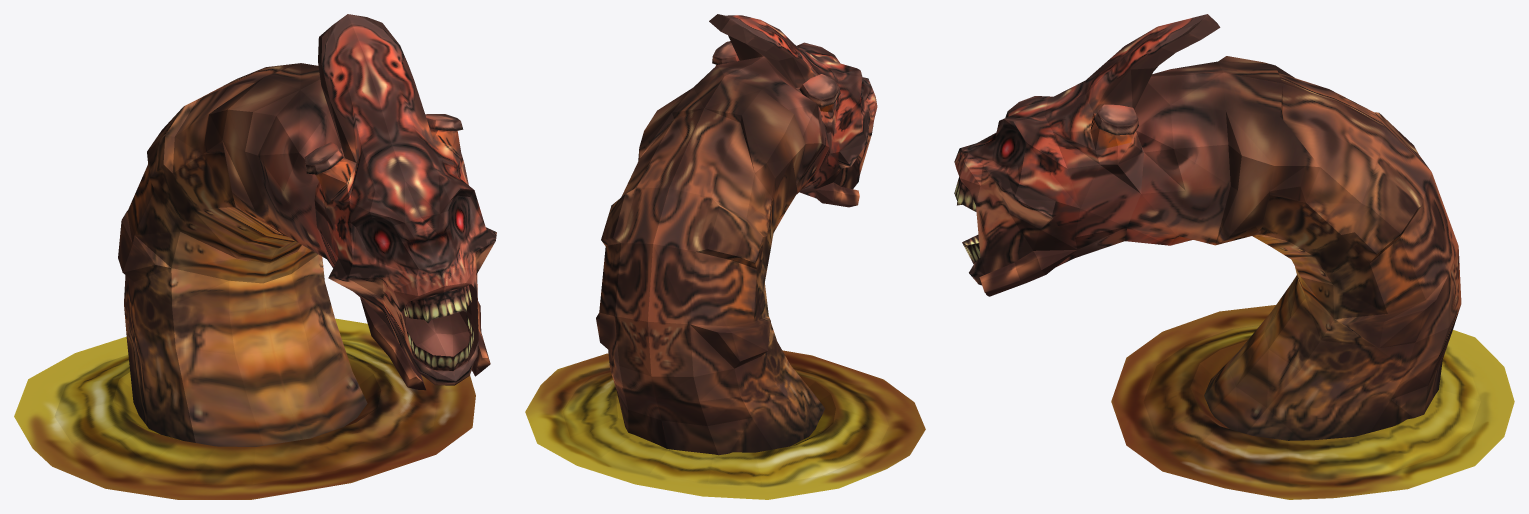
File: Lava Wurm.fbx
The picture shows the model from 3 angles, left to right: view 1: azimuth 30°, elevation 25°; view 2: azimuth 150°, elevation 25°; view 3: azimuth 270°, elevation 25°; orthographic projection. The views are drawn at different scales.
Parts seen in each view (by area): view 1: Body, Ground; view 2: Body, Ground; view 3: Body, Ground.
Boxes of the visible parts, bbox=[...] form: Body: bbox=[118, 14, 496, 446]; Ground: bbox=[14, 318, 475, 499]; Body: bbox=[596, 14, 877, 455]; Ground: bbox=[525, 350, 925, 499]; Body: bbox=[954, 14, 1461, 440]; Ground: bbox=[1111, 305, 1514, 499].
Bounding box in the file's own units: 1275 × 1240 × 1535.
2 materials, 2 textured.
